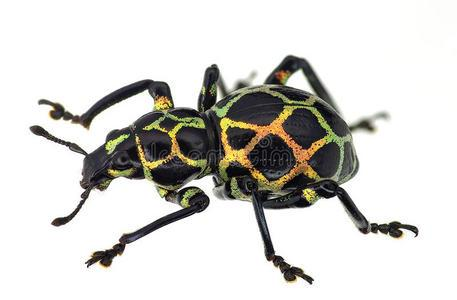Curculionidae: (30, 54, 418, 286)
